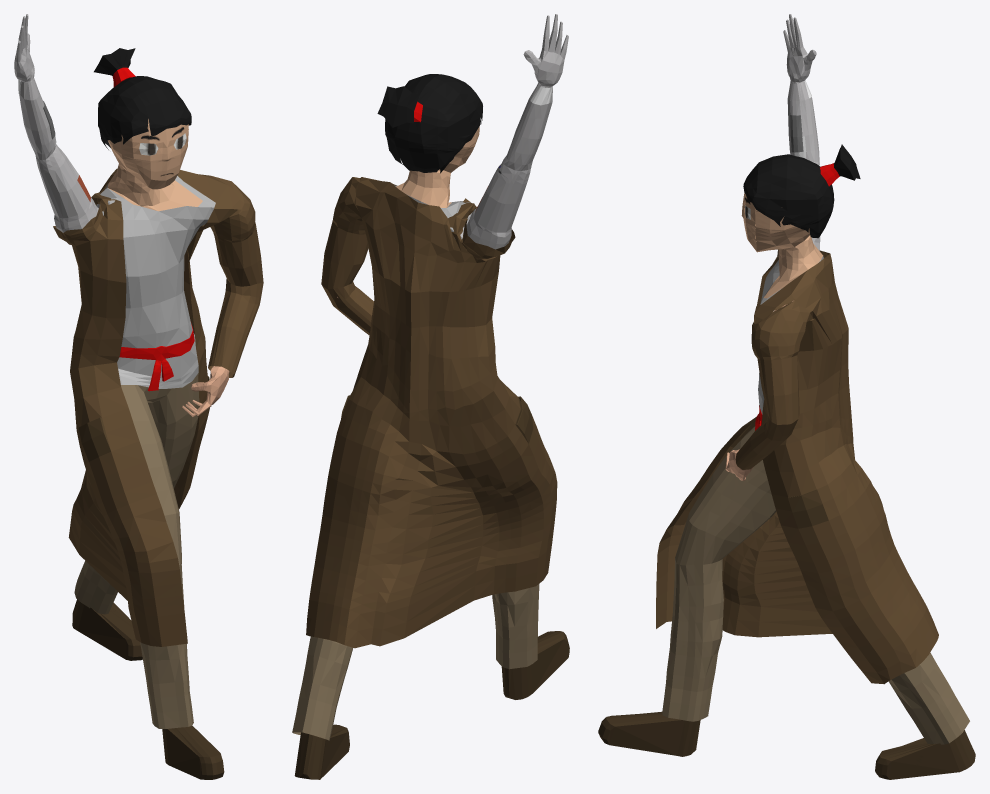
File: Special_Attack_000027.obj
The picture shows the model from 3 angles, left to right: view 1: azimuth 30°, elevation 25°; view 2: azimuth 150°, elevation 25°; view 3: azimuth 270°, elevation 25°; orthographic projection. The views are drawn at different scales.
Visible parts, largest first — view 1: Hair_Cube.004; view 2: Hair_Cube.004; view 3: Hair_Cube.004.
Part boxes in pixels (x1,y1,x2,y2): Hair_Cube.004: (14,14,263,779); Hair_Cube.004: (292,14,569,779); Hair_Cube.004: (598,14,975,779).
Bounding box in the file's own units: 1.49 × 4.29 × 2.12.
